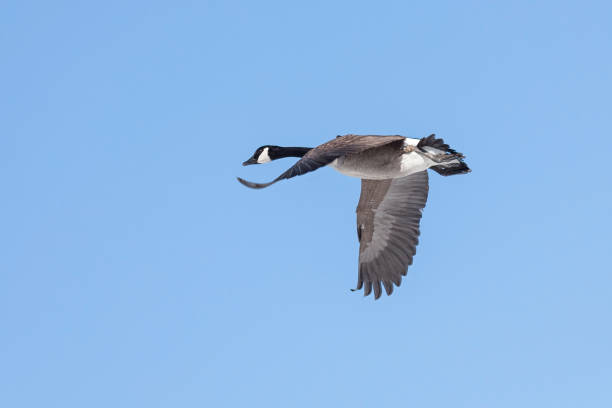goose: (235, 131, 474, 304)
